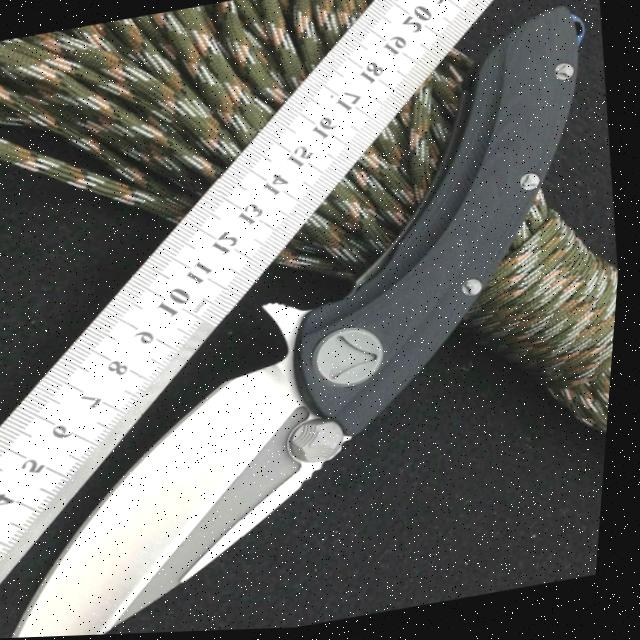knife: (0, 5, 639, 640)
